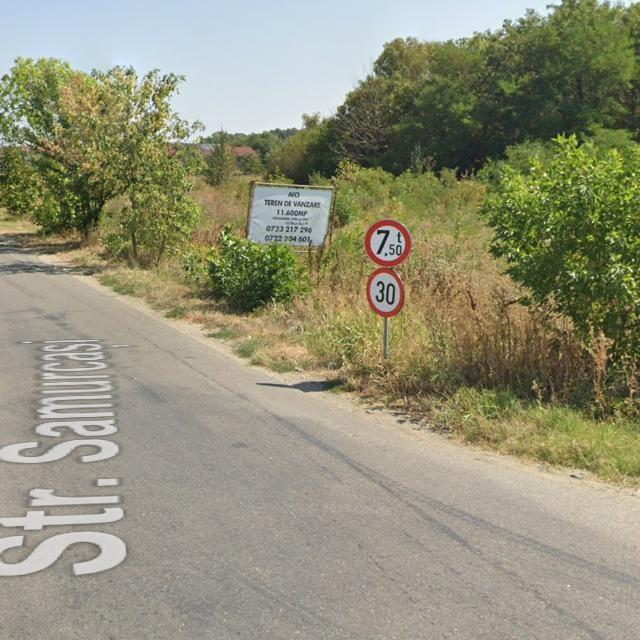forb_speed_over_30: (367, 268, 405, 317)
